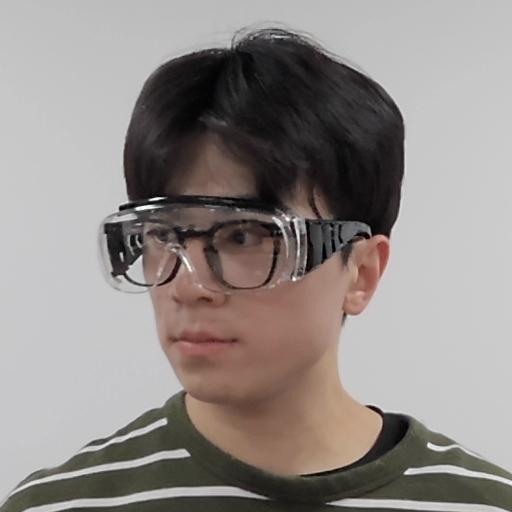glasses: (86, 27, 415, 402)
